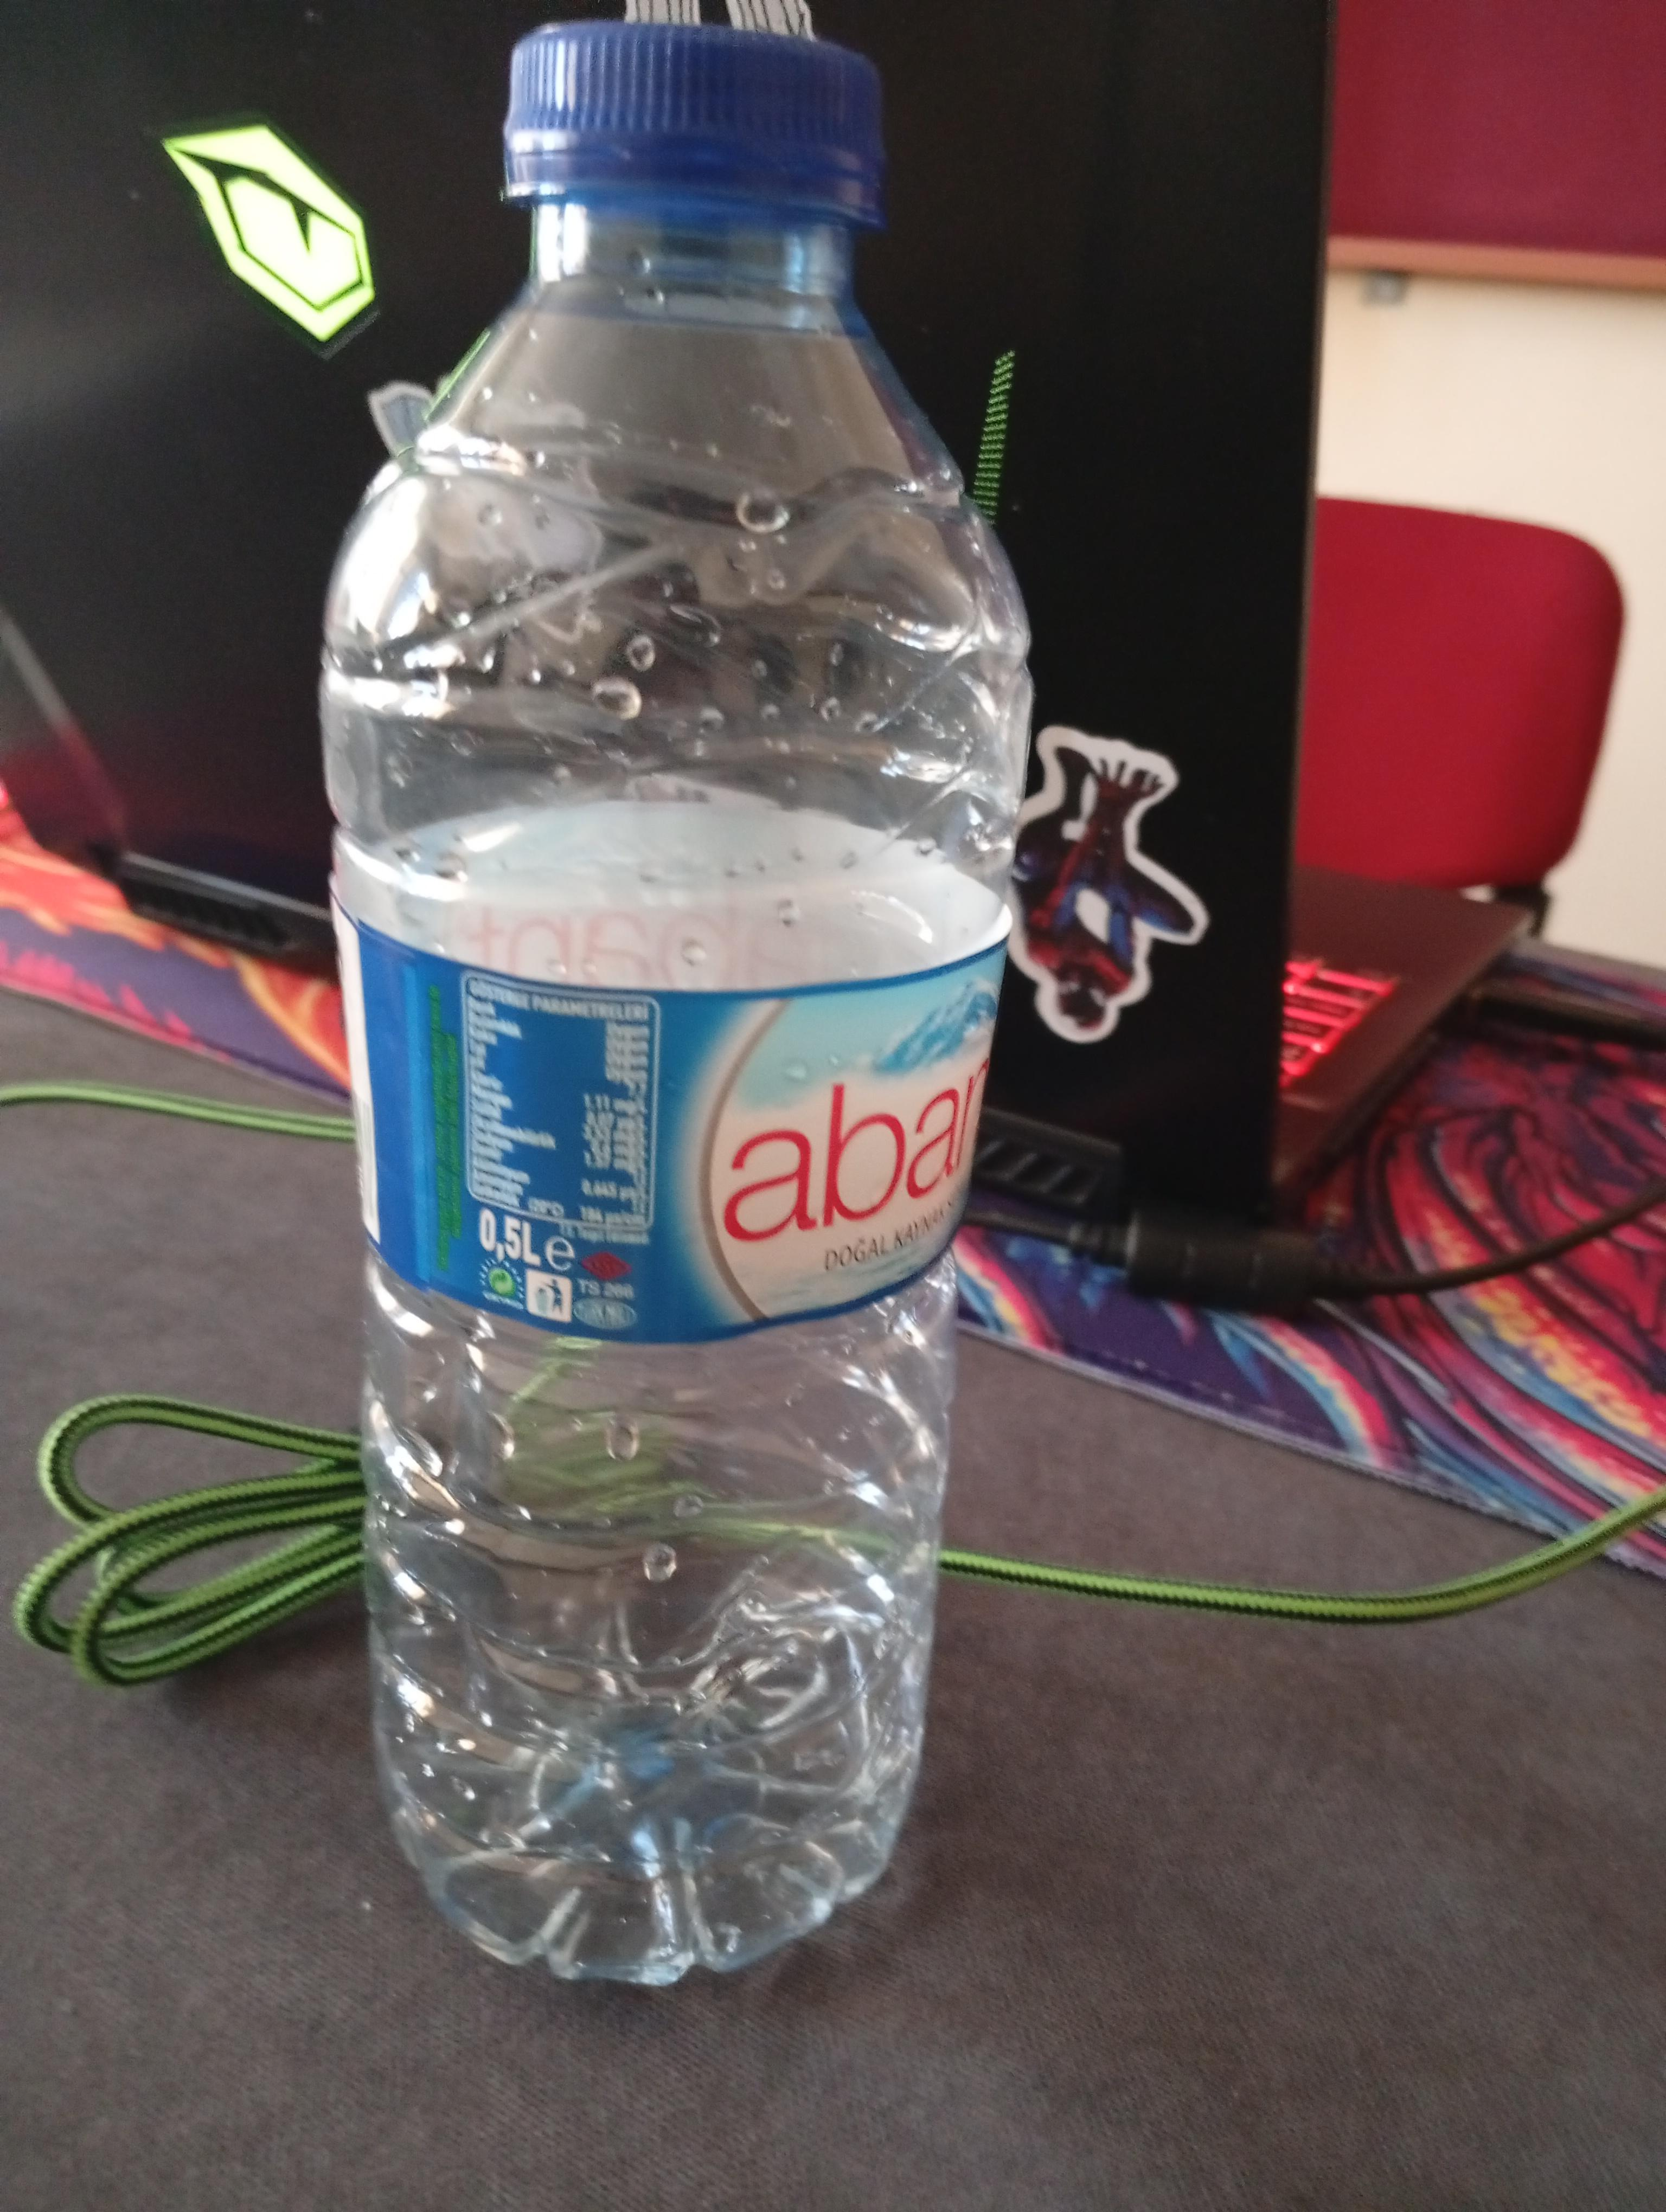etiketli: (243, 3, 1096, 1976)
